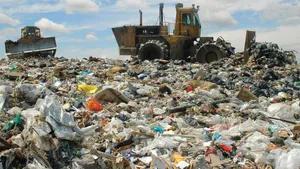garbage: (0, 55, 300, 169)
